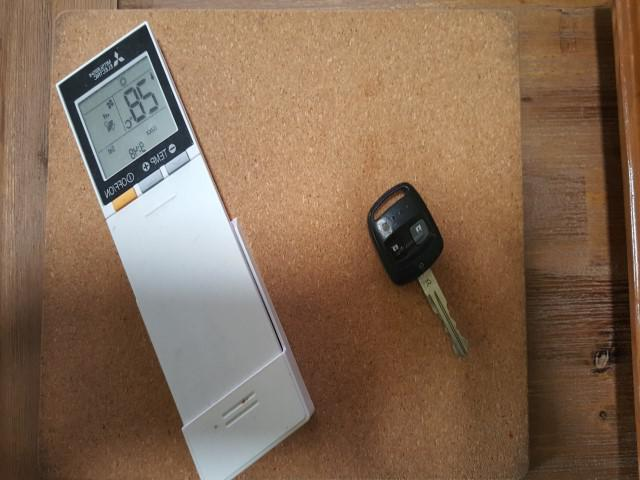key: (366, 181, 468, 468)
